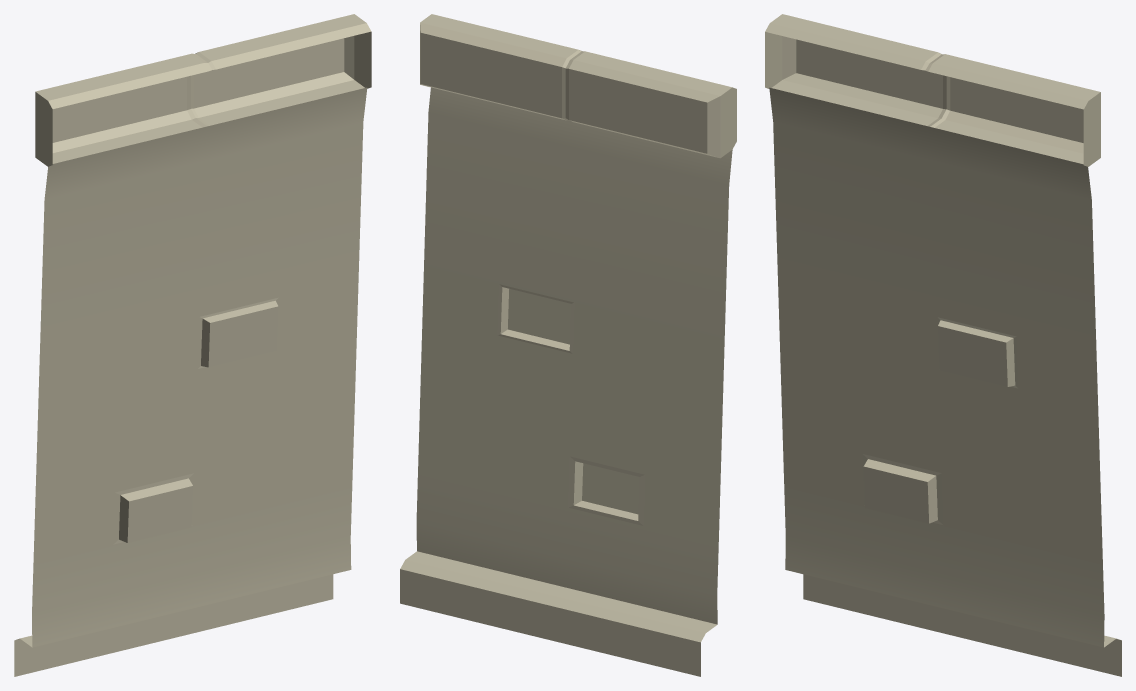
The model's file is Wall1.fbx.
The picture shows the model from 3 angles, left to right: view 1: azimuth 30°, elevation 25°; view 2: azimuth 150°, elevation 25°; view 3: azimuth 330°, elevation 25°; orthographic projection. The views are drawn at different scales.
Parts seen in each view (by area): view 1: Plain_Wall1; view 2: Plain_Wall1; view 3: Plain_Wall1.
Part boxes in pixels (box(x1,y1,x2,y2)): Plain_Wall1: box(14, 14, 371, 676); Plain_Wall1: box(400, 14, 736, 676); Plain_Wall1: box(765, 14, 1121, 676).
Size of the model in its own units: 1 by 1.8 by 0.2079.
